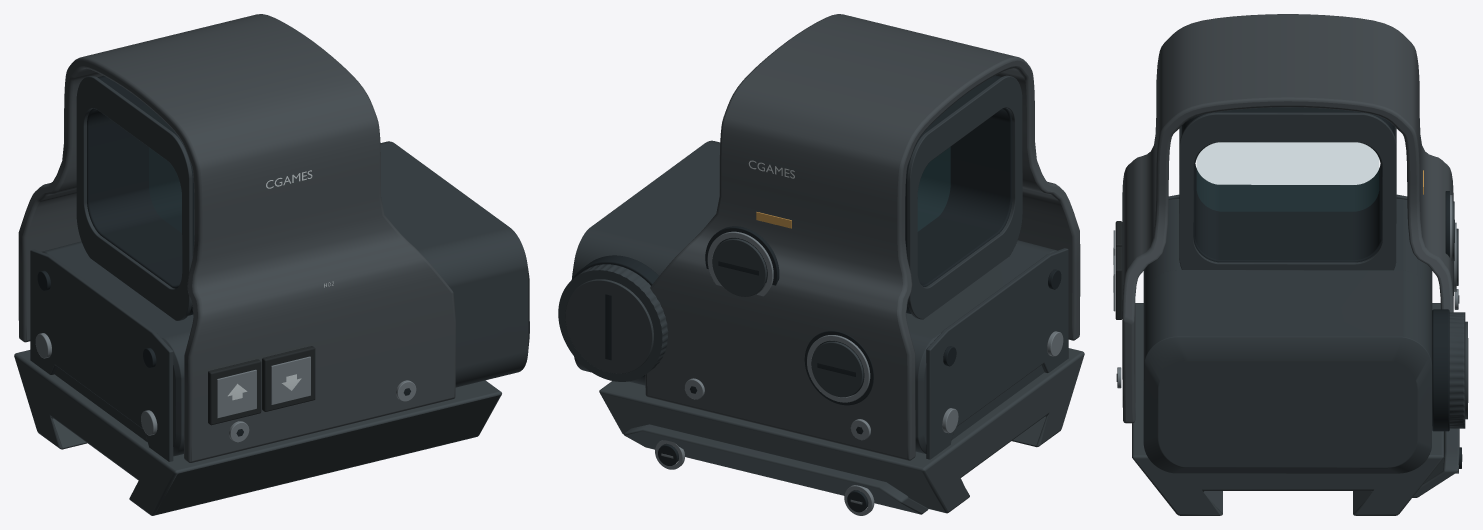
Rendered from H02_Holo_Legacy_K1_Rail_Top.glb.
3 renders of one model, left to right at view 1: azimuth 30°, elevation 25°; view 2: azimuth 150°, elevation 25°; view 3: azimuth 270°, elevation 25°, orthographic. The views are drawn at different scales.
Visible parts, largest first — view 1: 01 open protective U hood, 02 rounded forward casing, 04 undercut adapter bridge, 02 rear visible face plate, 03 inner window structural frame, 03 window rim rear, 03 transparent visual pane, 05 left button face.001, 05 left button face, 05 left button gasket, 05 left button gasket.001; view 2: 01 open protective U hood, 04 undercut adapter bridge, 02 rounded forward casing, 02 rear visible face plate, 03 inner window structural frame, 03 window rim rear, 04 independent right side strip, 05 front cap center, 05 front cap fine grip, 05 right inset disk, 05 right inset disk.001, 03 transparent visual pane (+5 smaller); view 3: 02 rounded forward casing, 01 open protective U hood, 03 inner window structural frame, 03 transparent visual pane, 03 window rim front, 04 undercut adapter bridge, 05 front side cap seat, 05 front cap fine grip, 04 independent right side strip, 05 left button gasket.
Part boxes in pixels (x1,y1,x2,y2): 01 open protective U hood: (18,14,455,462); 02 rounded forward casing: (41,141,529,456); 04 undercut adapter bridge: (14,350,501,515); 02 rear visible face plate: (30,249,173,461); 03 inner window structural frame: (87,75,194,315); 03 window rim rear: (76,76,192,320); 03 transparent visual pane: (149,148,181,232); 05 left button face.001: (217,369,256,418); 05 left button face: (271,356,310,404); 05 left button gasket: (262,346,315,411); 05 left button gasket.001: (208,359,261,425); 01 open protective U hood: (645,14,1080,460); 04 undercut adapter bridge: (599,348,1084,513); 02 rounded forward casing: (572,140,1057,453); 02 rear visible face plate: (926,248,1068,459); 03 inner window structural frame: (905,75,1012,313); 03 window rim rear: (907,75,1022,319); 04 independent right side strip: (624,424,928,514); 05 front cap center: (565,279,653,373); 05 front cap fine grip: (558,264,668,381); 05 right inset disk: (712,238,766,296); 05 right inset disk.001: (811,341,863,397); 03 transparent visual pane: (918,147,950,230); 02 rounded forward casing: (1143,199,1432,473); 01 open protective U hood: (1122,14,1453,423); 03 inner window structural frame: (1181,107,1394,262); 03 transparent visual pane: (1197,142,1378,211); 03 window rim front: (1179,112,1396,270); 04 undercut adapter bridge: (1132,303,1443,515); 05 front side cap seat: (1432,309,1449,431); 05 front cap fine grip: (1449,312,1465,428); 04 independent right side strip: (1412,428,1459,497); 05 left button gasket: (1115,246,1122,319).
Bounding box in the file's own units: 0.0833 × 0.0825 × 0.0724.
